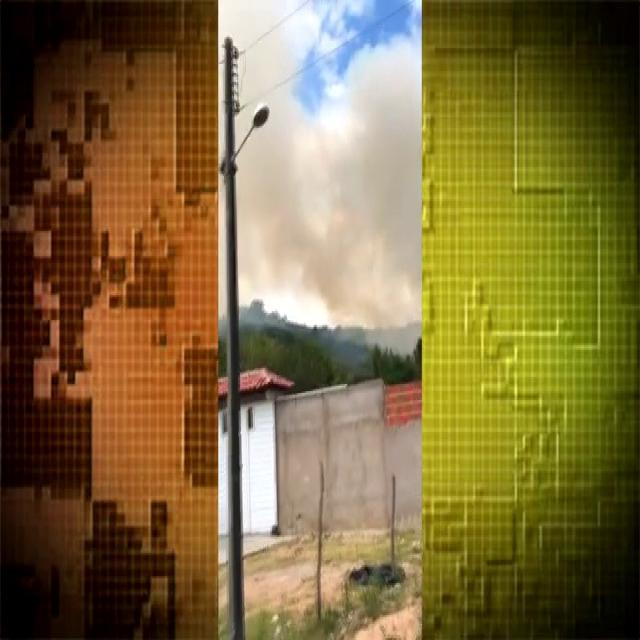Smoke: (256, 63, 417, 320)
